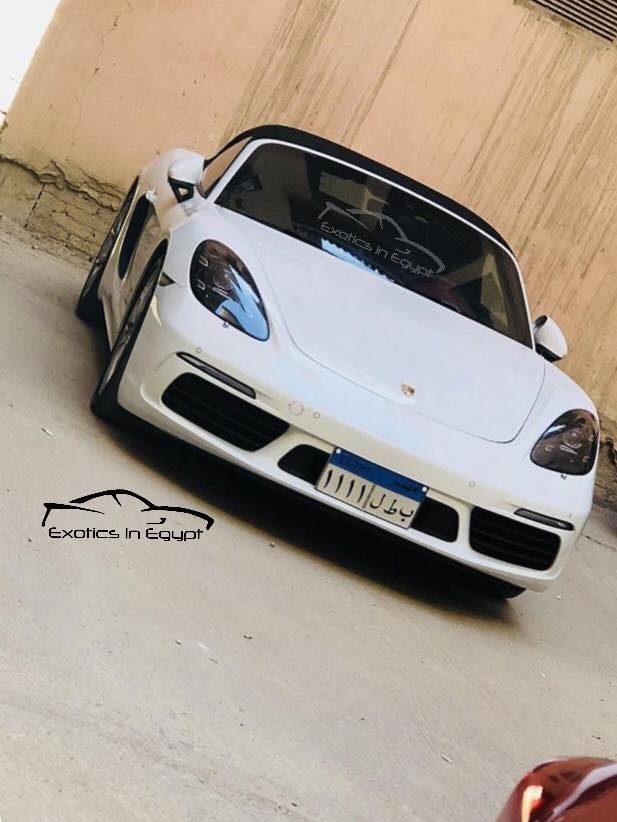carpl: (315, 466, 426, 522)
